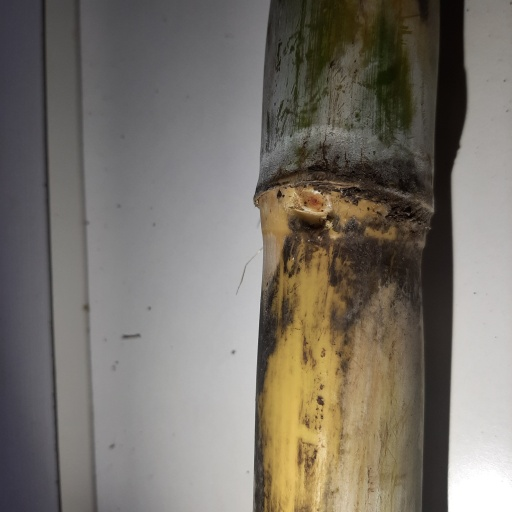Damage_Bud: (293, 187, 331, 221)
